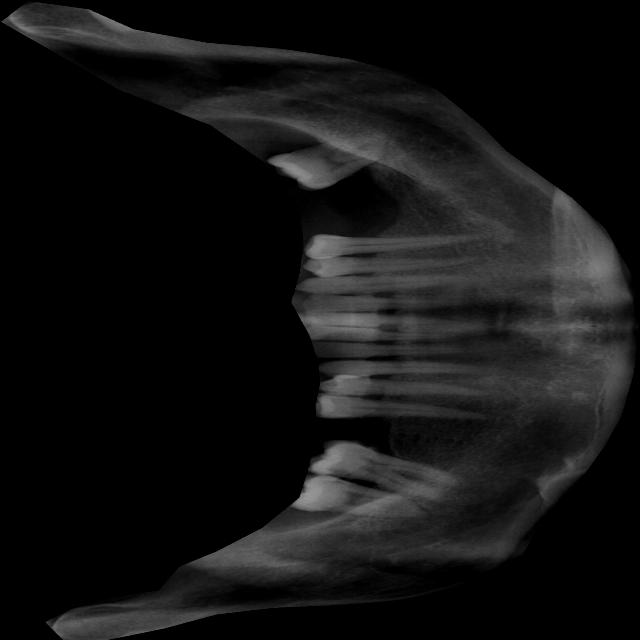mandibula: (1, 0, 640, 640)
